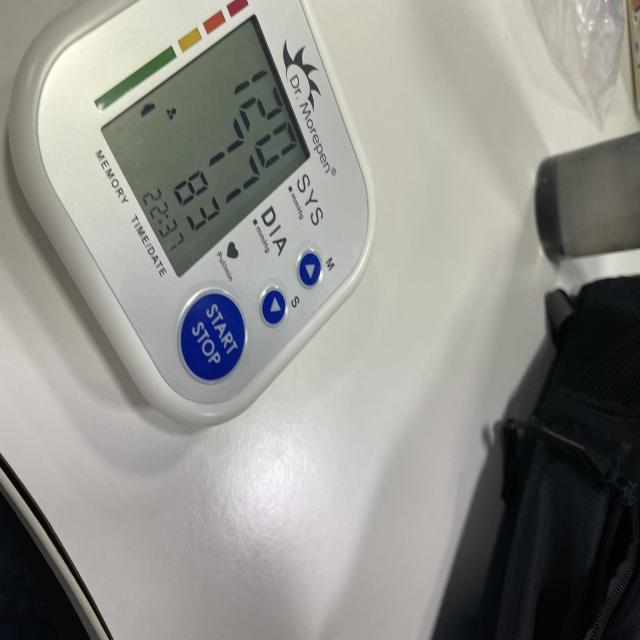bp: (16, 0, 377, 433)
